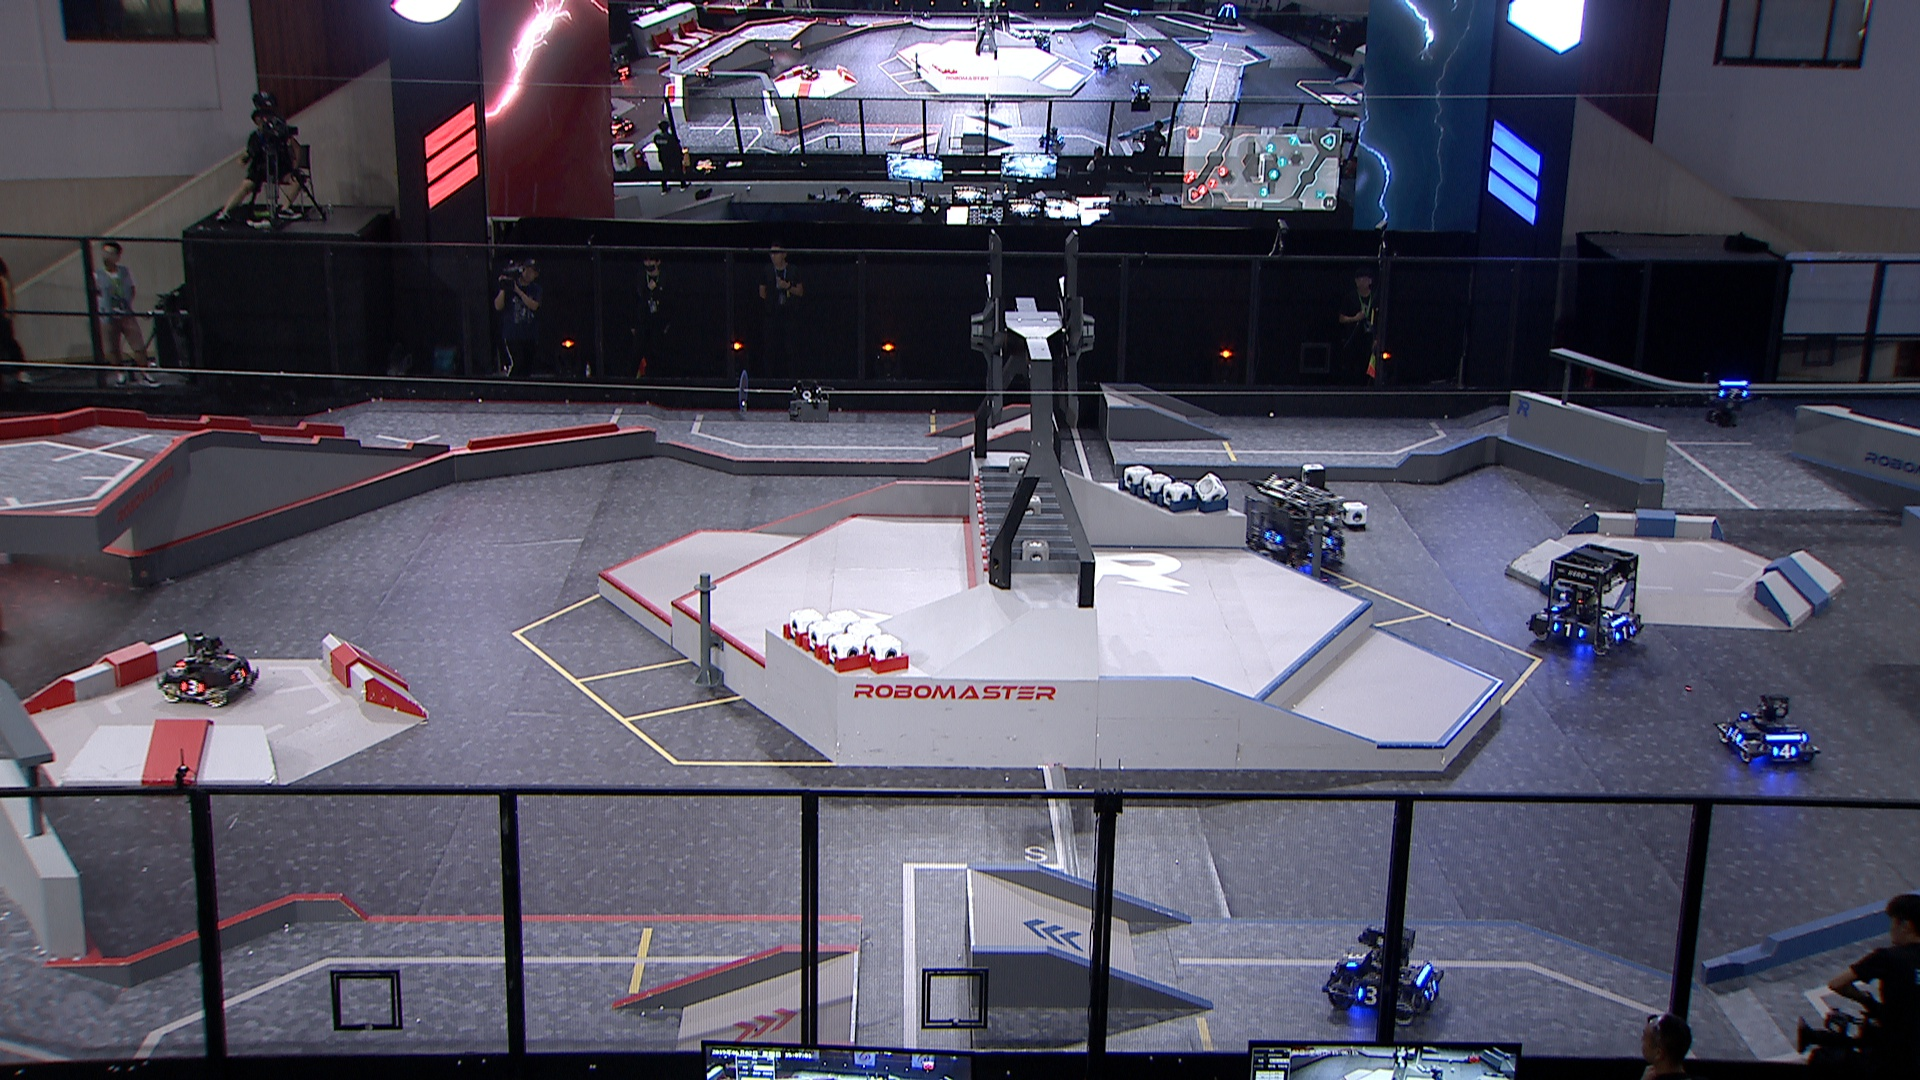armor: (1551, 621, 1585, 638), (1356, 982, 1378, 1007), (1716, 386, 1750, 401), (1770, 744, 1799, 760), (1420, 978, 1439, 1002), (179, 679, 206, 695), (1611, 622, 1634, 641), (1344, 949, 1367, 967), (174, 651, 196, 669), (1724, 727, 1743, 744), (1265, 527, 1282, 546), (229, 669, 245, 687), (1320, 534, 1335, 551)
car: (1524, 543, 1646, 657), (1319, 920, 1441, 1027), (1244, 475, 1346, 572), (154, 632, 261, 708), (1713, 698, 1825, 765)
ignore: (1211, 3, 1242, 29), (1092, 44, 1120, 73), (1036, 128, 1067, 150), (609, 54, 632, 79), (611, 113, 633, 138), (694, 65, 713, 84), (1031, 34, 1051, 54), (798, 63, 818, 80), (1129, 76, 1149, 94)
watcher: (1702, 375, 1750, 429)
